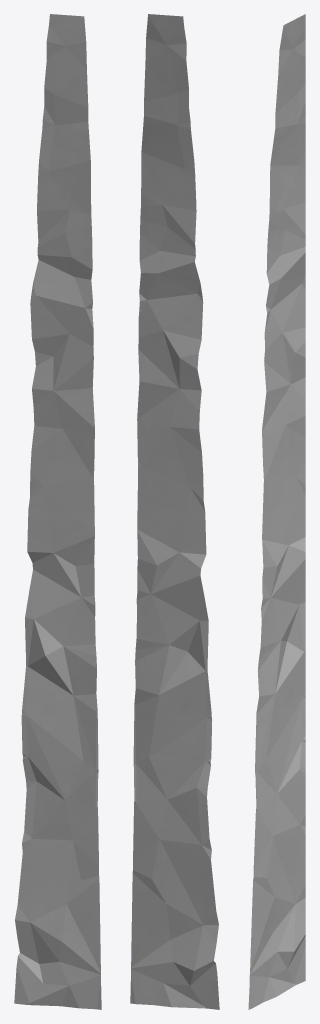
3 renders of one model, left to right at view 1: azimuth 30°, elevation 25°; view 2: azimuth 210°, elevation 25°; view 3: azimuth 270°, elevation 25°, orthographic. The views are drawn at different scales.
Bounding box in the file's own units: 0.1055 × 1.67 × 0.0879.
1 material, 1 textured.
